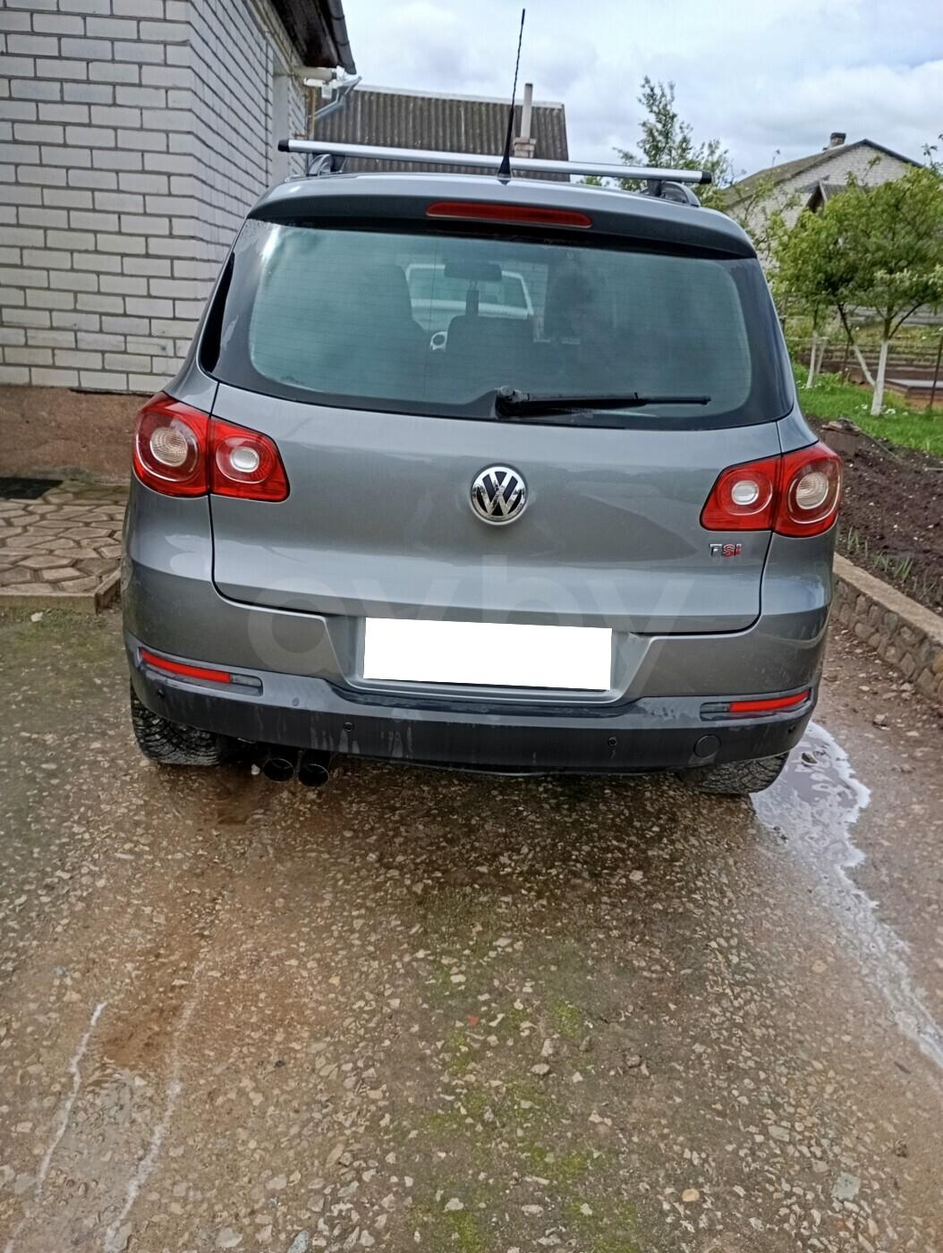Tiguan_2007-2011: (118, 154, 845, 813)
